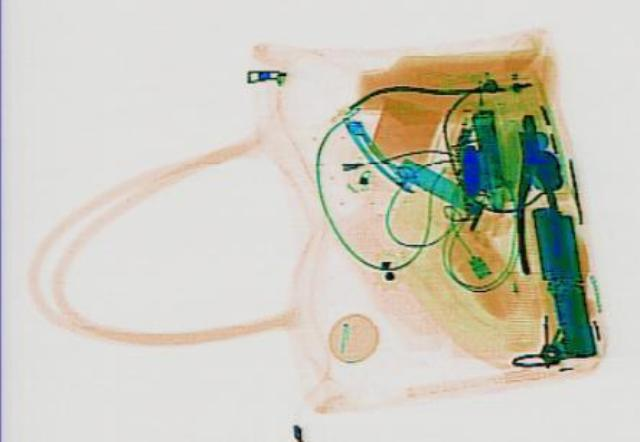Pliers: (503, 112, 562, 270)
